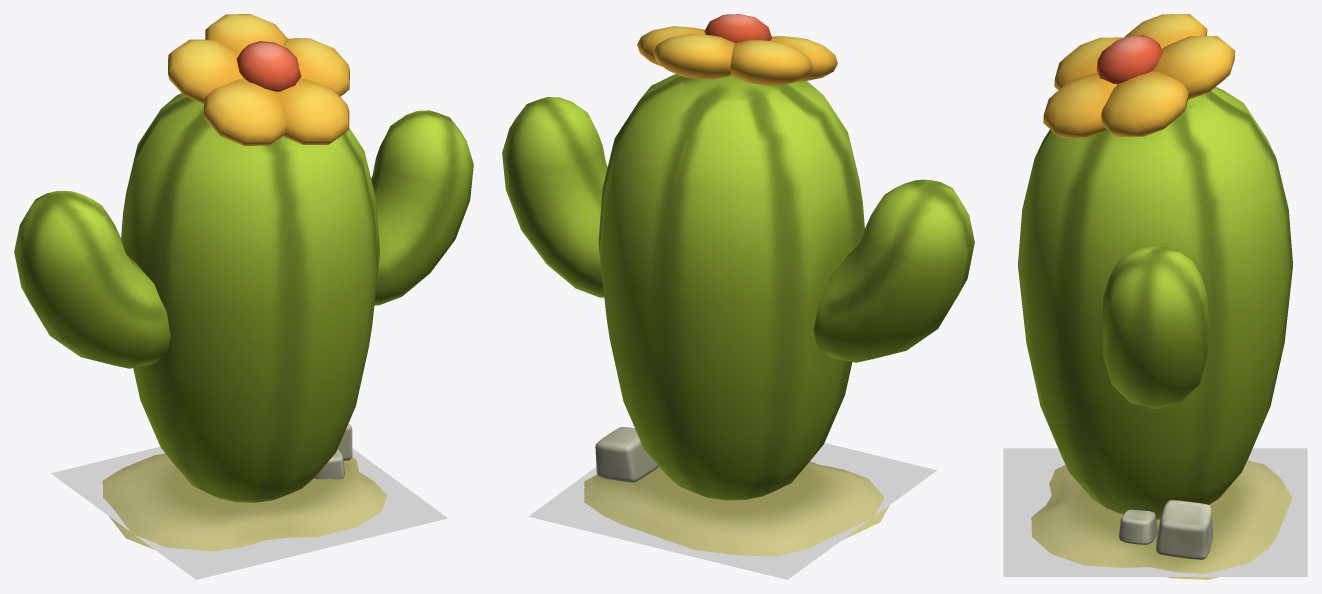
Rendered from VK_Cactus01.fbx.
3 views of the same model, side by side, from view 1: azimuth 30°, elevation 25°; view 2: azimuth 150°, elevation 25°; view 3: azimuth 270°, elevation 25° (orthographic). The views are drawn at different scales.
Parts seen in each view (by area): view 1: Cactus01, Cactus01_Grid; view 2: Cactus01, Cactus01_Grid; view 3: Cactus01, Cactus01_Grid.
Part boxes in pixels (left/top/right/bottom): Cactus01: left=14, top=14, right=473, bottom=551; Cactus01_Grid: left=51, top=446, right=447, bottom=579; Cactus01: left=502, top=14, right=974, bottom=556; Cactus01_Grid: left=528, top=443, right=936, bottom=579; Cactus01: left=1018, top=14, right=1292, bottom=579; Cactus01_Grid: left=1003, top=448, right=1307, bottom=576.
Size of the model in its own units: 1.77 by 1.74 by 1.
